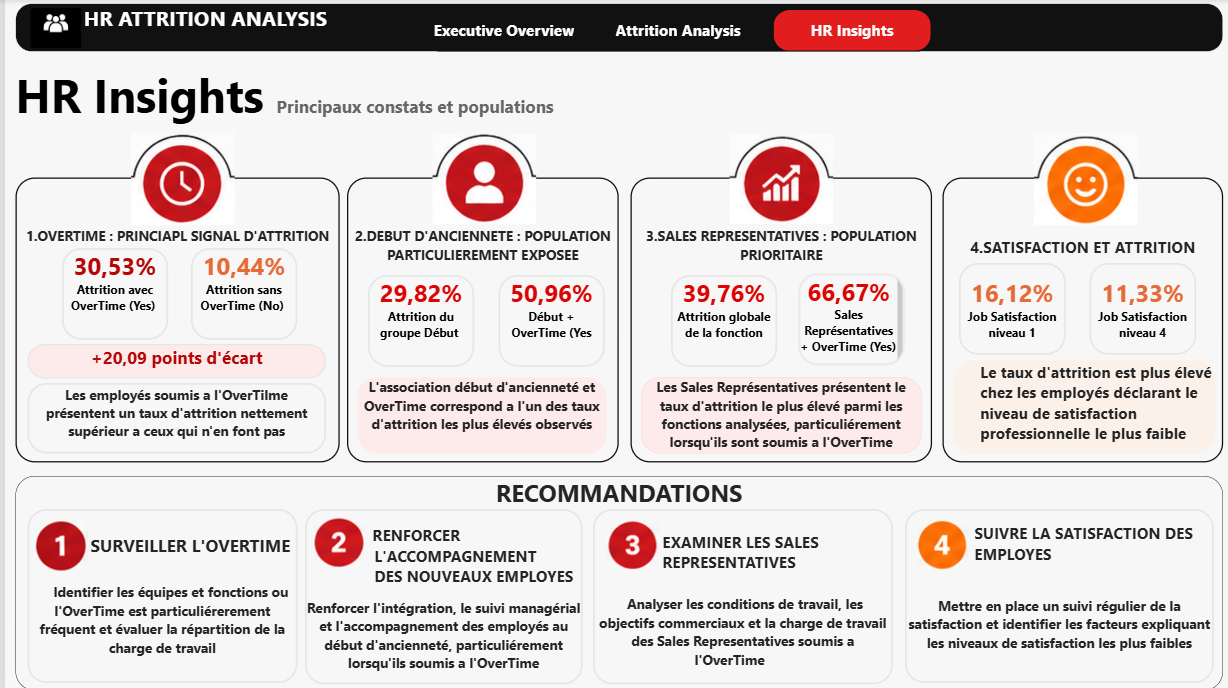

The dashboard page shown, as its layout file describes it:
{"tool":"powerbi","page":{"name":"HR Insights","canvas":[1920,1080],"ordinal":2},"visuals":[{"type":"textbox","box":[16,7,1887,75],"z":0},{"type":"image","box":[35.2,14.1,89.1,63.3],"z":1000},{"type":"pageNavigator","box":[656.5,16.4,792.4,66],"z":2000},{"type":"textbox","box":[16.4,100.8,977.6,105.5],"z":3000},{"type":"textbox","box":[1465.3,279,438.4,445.5],"z":4000},{"type":"image","box":[1608.3,206.3,161.8,150],"z":5000},{"type":"textbox","box":[1481.7,565,410.3,145.4],"z":6000},{"type":"textbox","box":[213.3,846.4,288.4,46],"z":7000},{"type":"textbox","box":[977.6,279,471.2,445.5],"z":8000},{"type":"textbox","box":[534.5,279,424.4,445.5],"z":9000},{"type":"textbox","box":[16.4,280,506.4,445.5],"z":10000},{"type":"image","box":[1132.4,206.3,161.8,150],"z":11000},{"type":"image","box":[196.9,206.3,161.8,150],"z":12000},{"type":"image","box":[668.2,206.3,161.8,150],"z":13000},{"type":"textbox","box":[16.4,745.5,1887.3,335.3],"z":14000},{"type":"textbox","box":[1490,412.6,166.5,143],"z":15000},{"type":"textbox","box":[1695,412.6,166.5,143],"z":16000},{"type":"textbox","box":[1240,430,166,143],"z":17000},{"type":"textbox","box":[1040,431.4,166,143],"z":18000},{"type":"textbox","box":[994.1,590.8,438.4,119.6],"z":19000},{"type":"textbox","box":[551,590.8,389.2,119.6],"z":20000},{"type":"textbox","box":[771.3,431.4,166,143],"z":21000},{"type":"textbox","box":[567.4,431.4,166,143],"z":22000},{"type":"textbox","box":[290,390,166,143],"z":23000},{"type":"textbox","box":[90,390,166,143],"z":24000},{"type":"textbox","box":[35.2,540,466.6,53.9],"z":25000},{"type":"textbox","box":[35.2,600.2,466.6,110.2],"z":26000},{"type":"textbox","box":[35.2,797.1,422,272],"z":27000},{"type":"textbox","box":[468.9,797.1,433.7,274.3],"z":28000},{"type":"textbox","box":[919,797.1,468.9,274.3],"z":29000},{"type":"textbox","box":[1406.7,797.1,483,272],"z":30000},{"type":"image","box":[44.5,804.2,85,100],"z":31000},{"type":"image","box":[483,804.2,80,90],"z":32000},{"type":"image","box":[937.8,804.2,85,100],"z":33000},{"type":"image","box":[1423.1,813.5,84.4,79.7],"z":34000}]}

Visuals, with their boxes in screenshot pixels (x1, y1, x2, y2), scaled from the page's 1920x1080 canvas onto the 1228x688 screenshot:
textbox: [10, 4, 1217, 52]
image: [23, 9, 80, 49]
pageNavigator: [420, 10, 927, 52]
textbox: [10, 64, 636, 131]
textbox: [937, 178, 1218, 462]
image: [1029, 131, 1132, 227]
textbox: [948, 360, 1210, 453]
textbox: [136, 539, 321, 568]
textbox: [625, 178, 927, 462]
textbox: [342, 178, 613, 462]
textbox: [10, 178, 334, 462]
image: [724, 131, 828, 227]
image: [126, 131, 229, 227]
image: [427, 131, 531, 227]
textbox: [10, 475, 1218, 687]
textbox: [953, 263, 1059, 354]
textbox: [1084, 263, 1191, 354]
textbox: [793, 274, 899, 365]
textbox: [665, 275, 771, 366]
textbox: [636, 376, 916, 453]
textbox: [352, 376, 601, 453]
textbox: [493, 275, 599, 366]
textbox: [363, 275, 469, 366]
textbox: [185, 248, 292, 340]
textbox: [58, 248, 164, 340]
textbox: [23, 344, 321, 378]
textbox: [23, 382, 321, 453]
textbox: [23, 508, 292, 681]
textbox: [300, 508, 577, 683]
textbox: [588, 508, 888, 683]
textbox: [900, 508, 1209, 681]
image: [28, 512, 83, 576]
image: [309, 512, 360, 570]
image: [600, 512, 654, 576]
image: [910, 518, 964, 569]
